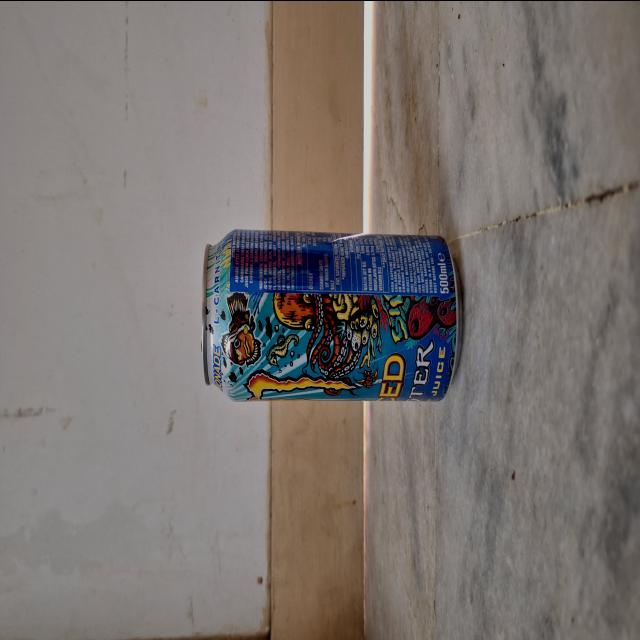Monster Aussie Lemonade: (202, 227, 464, 407)
